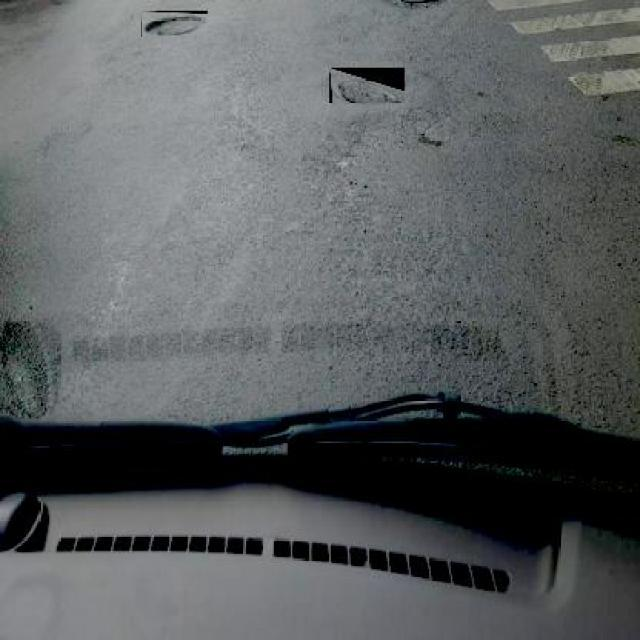Manhole: (330, 68, 404, 104), (140, 11, 208, 37)
Pothole: (0, 315, 64, 419), (0, 0, 67, 12), (414, 132, 447, 152), (396, 0, 442, 11), (612, 130, 638, 149)
